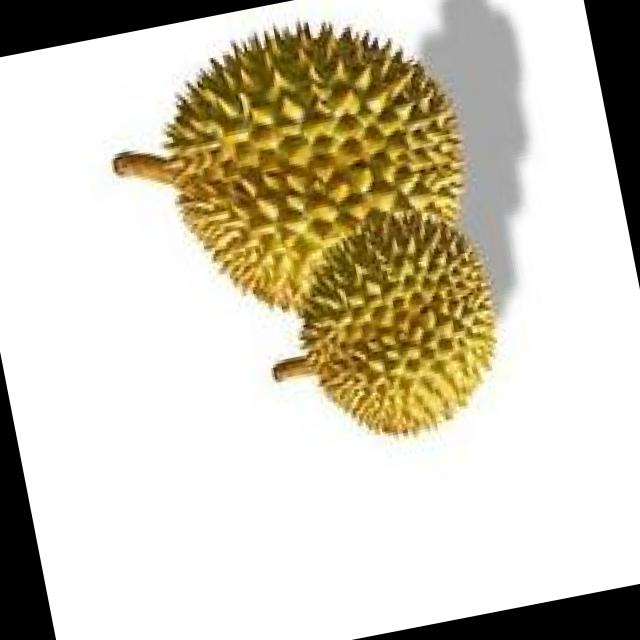fruit: (114, 0, 543, 387), (248, 159, 558, 481)
